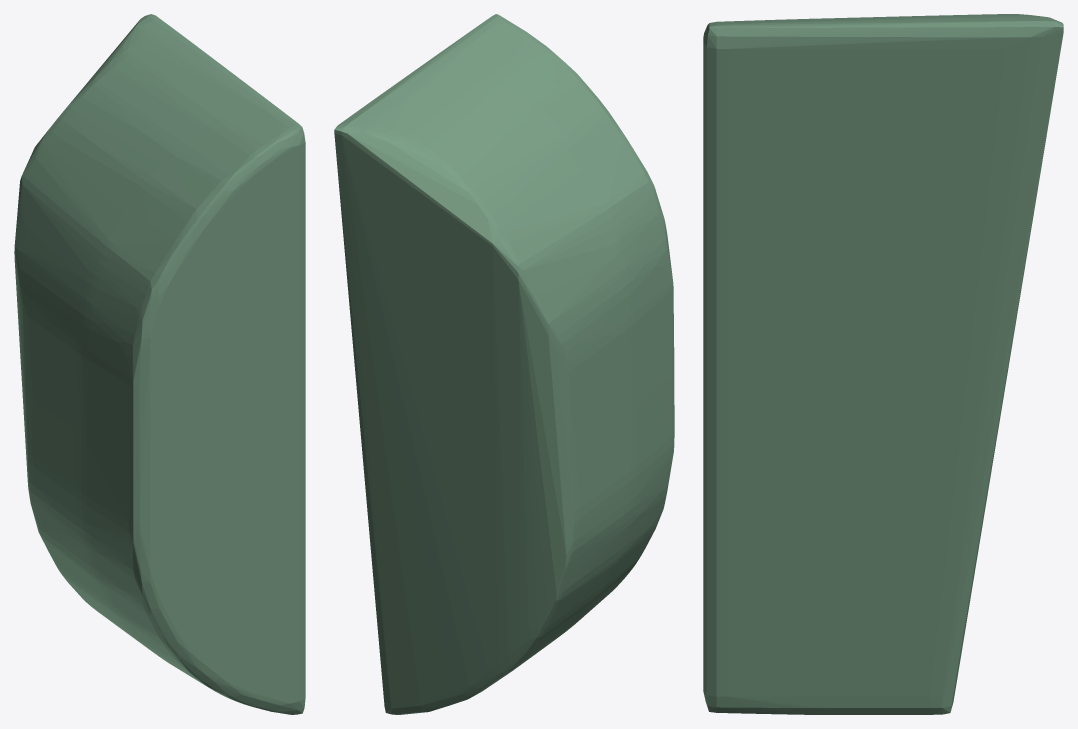
The model's file is right_f_distal_pst_part_0.obj.
3 views of the same model, side by side, from view 1: azimuth 30°, elevation 25°; view 2: azimuth 150°, elevation 25°; view 3: azimuth 270°, elevation 25° (orthographic). The views are drawn at different scales.
Bounding box in the file's own units: 4.54 × 14.29 × 6.75.
